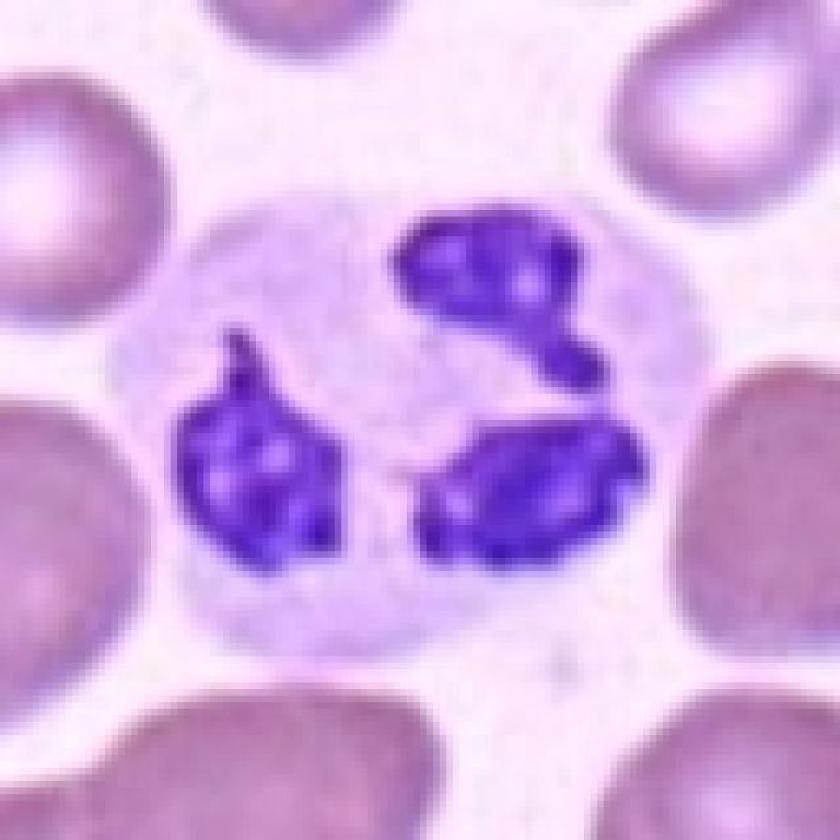neutrophil: (87, 128, 734, 715)
